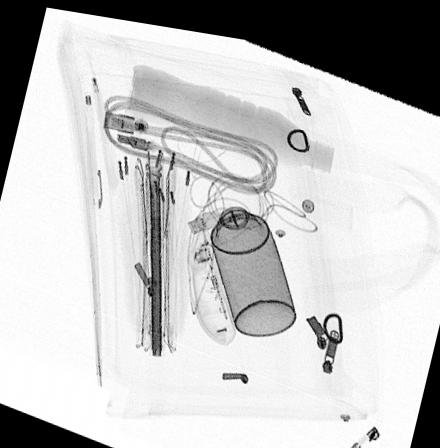Sprayer: (196, 165, 297, 328)
